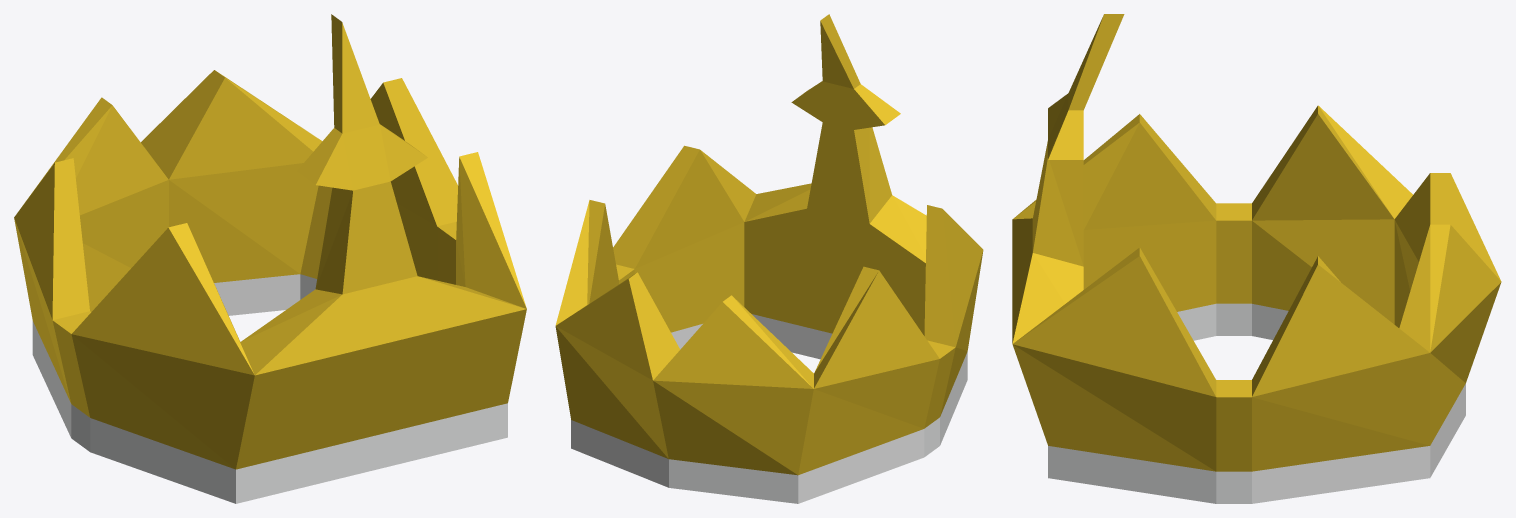
Rendered from model_2938_npc_head.obj.
3 views of the same model, side by side, from view 1: azimuth 30°, elevation 25°; view 2: azimuth 150°, elevation 25°; view 3: azimuth 270°, elevation 25° (orthographic). The views are drawn at different scales.
Parts seen in each view (by area): view 1: 2938; view 2: 2938; view 3: 2938.
Part boxes in pixels (box(x1,y1,x2,y2)): 2938: box(14, 14, 526, 503); 2938: box(555, 14, 983, 503); 2938: box(1012, 14, 1501, 503).
Size of the model in its own units: 90 by 87 by 96.
